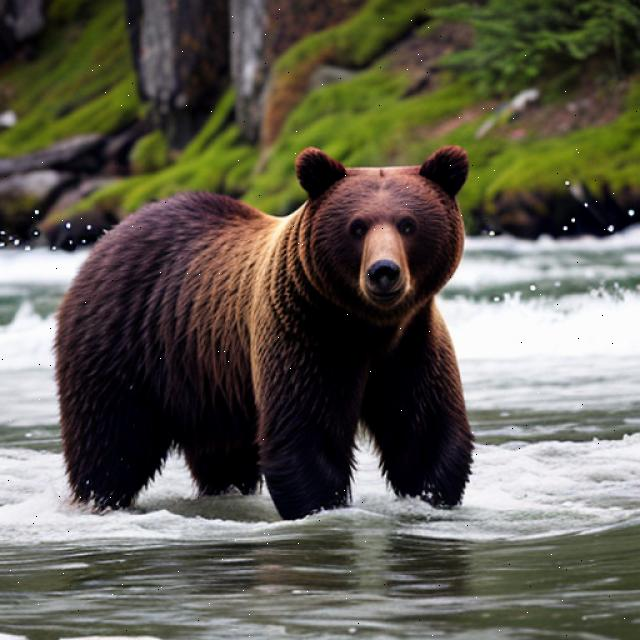bear: (289, 138, 499, 324)
